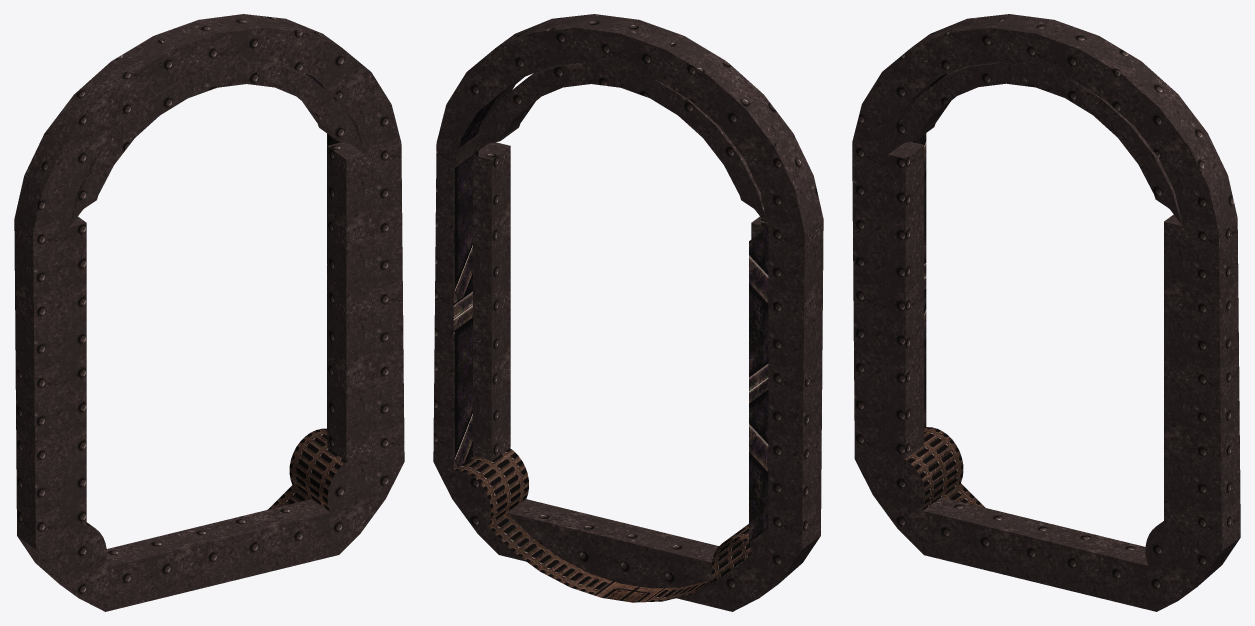
Rendered from puerta.fbx.
3 views of the same model, side by side, from view 1: azimuth 30°, elevation 25°; view 2: azimuth 150°, elevation 25°; view 3: azimuth 330°, elevation 25° (orthographic).
Visible parts, largest first — view 1: Model; view 2: Model; view 3: Model.
Boxes of the visible parts, x1,y1,x2,y2 form: Model: [14, 14, 404, 611]; Model: [433, 14, 823, 611]; Model: [852, 14, 1240, 611].
Size of the model in its own units: 2.16 by 3.07 by 0.3847.
